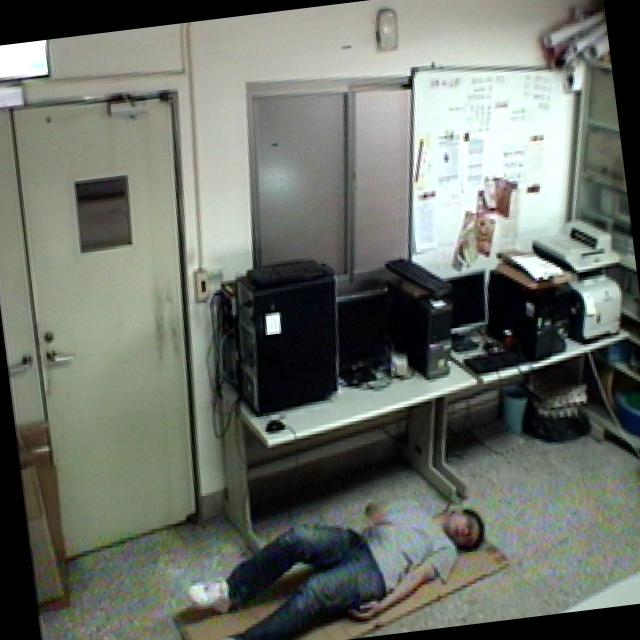lie: (169, 461, 500, 640)
